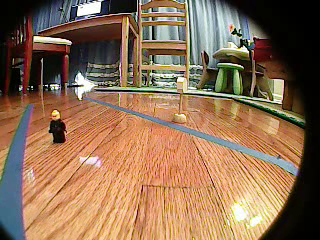Person: (48, 109, 69, 145)
